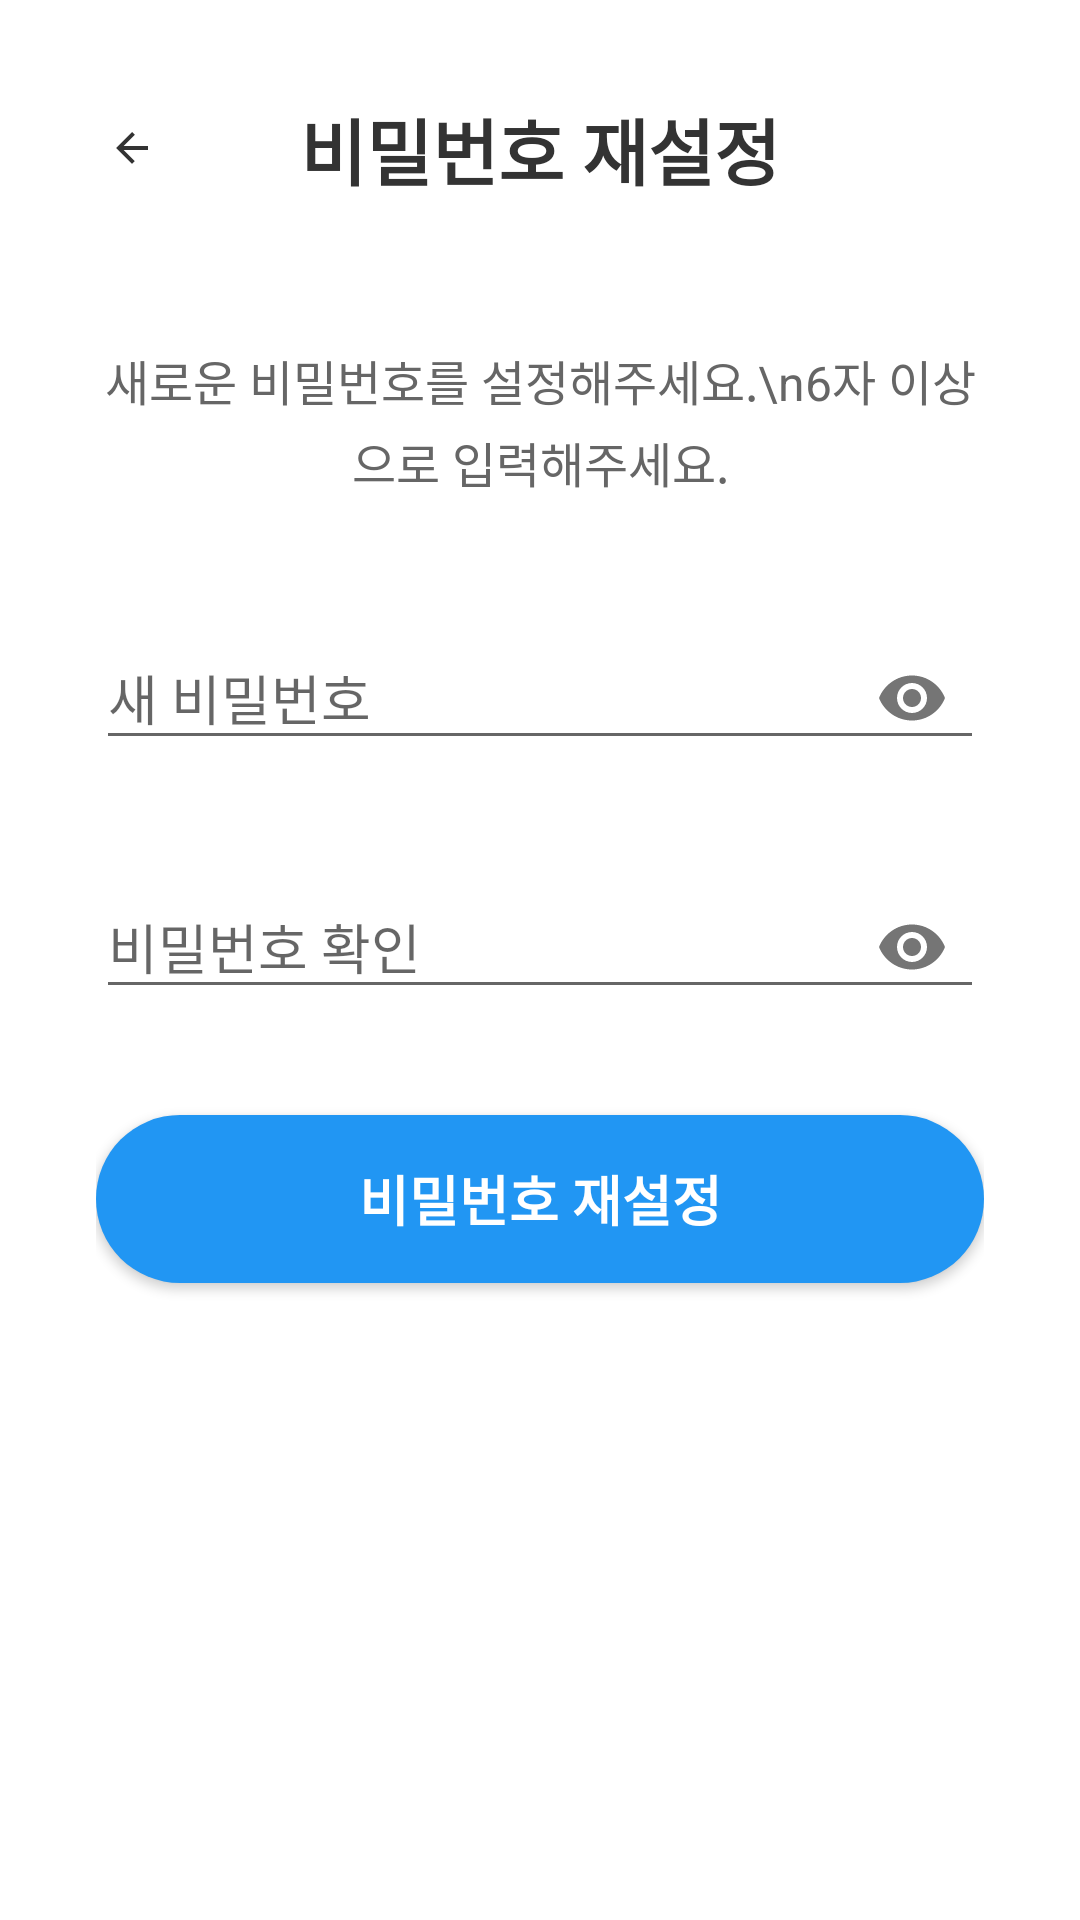

Point at icon controls on the screen. Image size 1080x1920, points as (x=x, y=y).
arrow back: (x=132, y=148)
